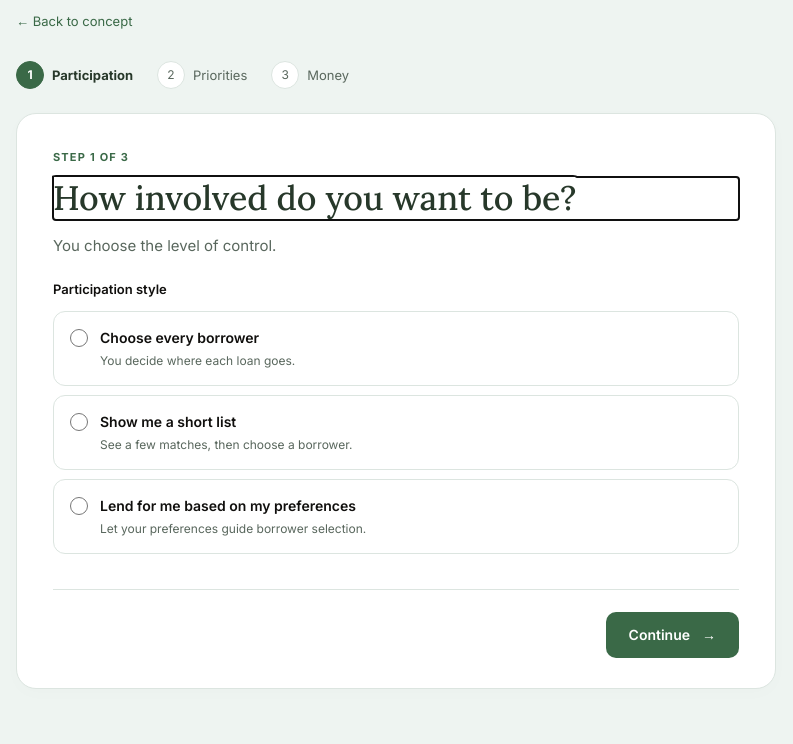
Test: Impact Plan demo › requires participation and a cause without persisting unfinished choices
What coordinates should you click on to do the following:
click the button "Continue →"
I would click on:
 (672, 635)
Its box is [606, 612, 739, 658].
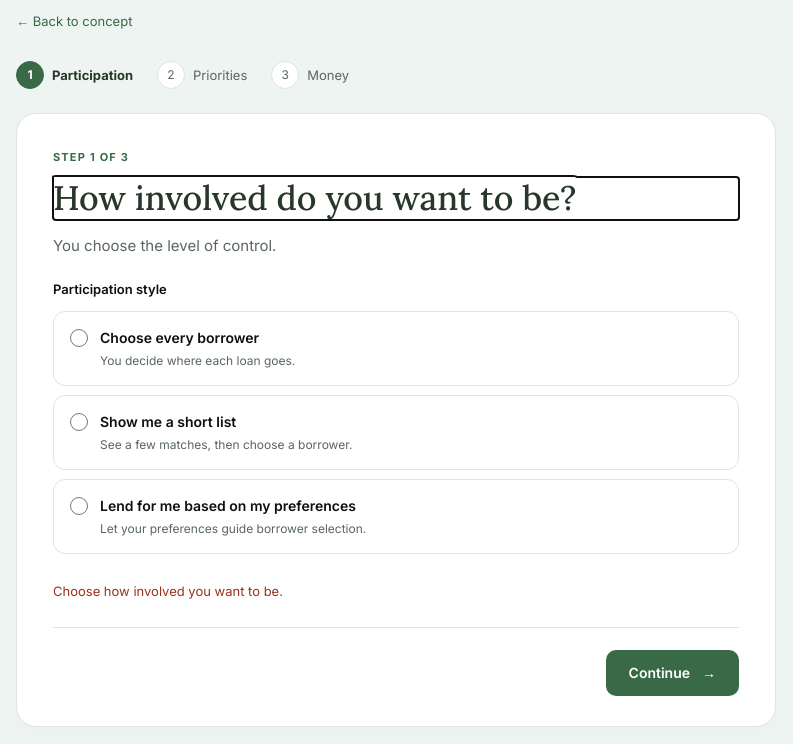
Now the message reads "Choose how involved you want to be.", box [53, 583, 283, 599]
What coordinates should you click on to do the following:
click the radio button labelled "Show me a short list"
I would click on:
 (79, 422)
Its box is [70, 413, 88, 431].
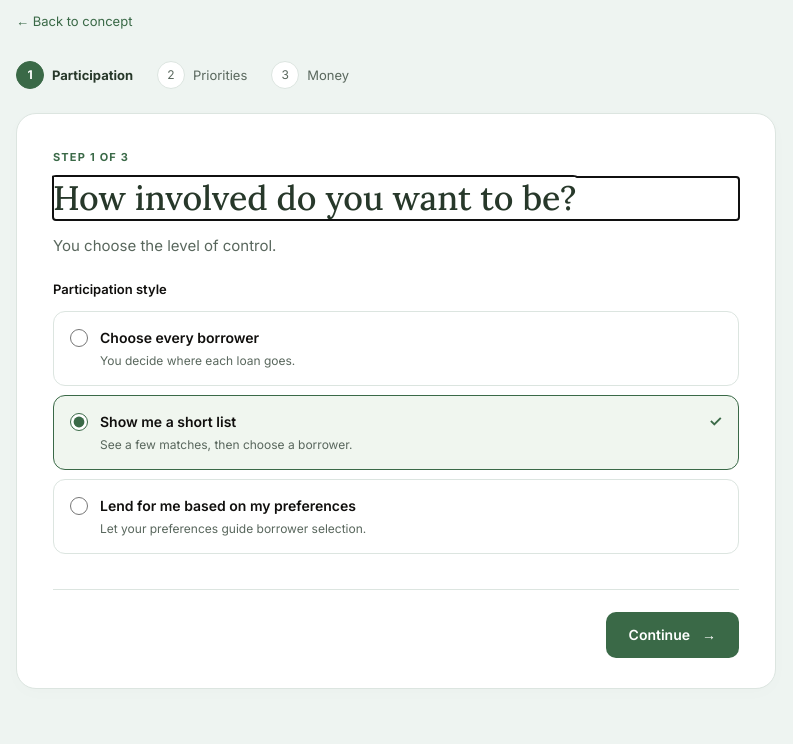
What coordinates should you click on to do the following:
click the button "Continue →"
I would click on:
 (672, 635)
Its box is [606, 612, 739, 658].
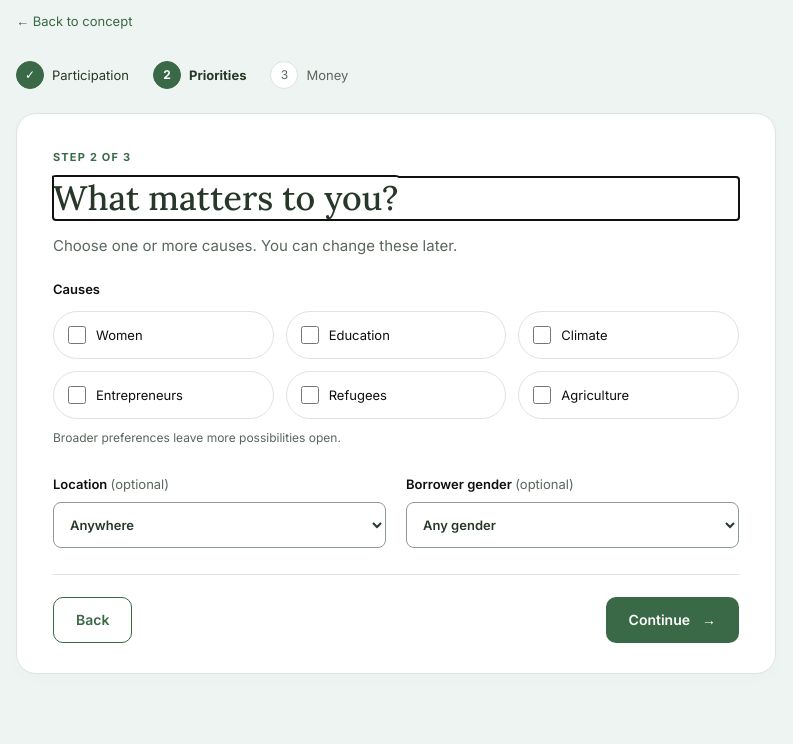
What coordinates should you click on to do the following:
click the button "Continue →"
I would click on:
 (672, 620)
Its box is [606, 597, 739, 643].
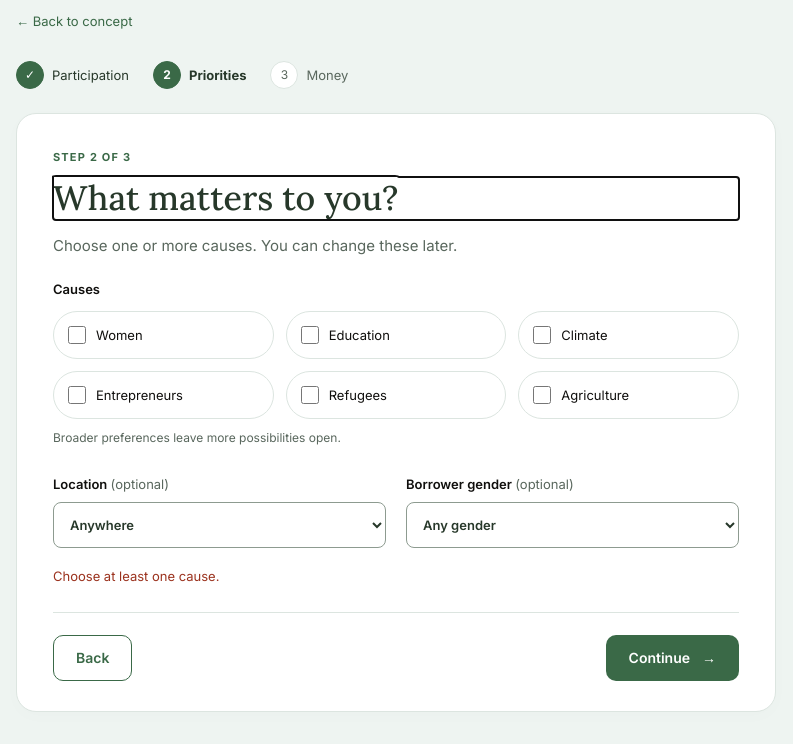
Now the message reads "Choose at least one cause.", box [53, 568, 220, 584]
